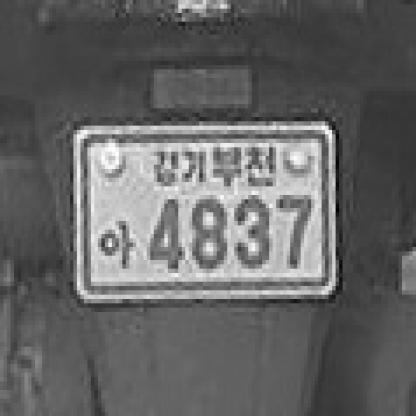bnum: (66, 118, 345, 312)
